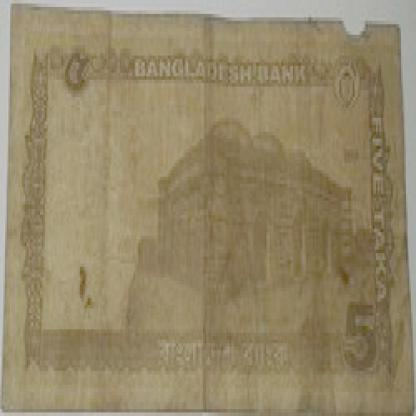Five Taka: (338, 288, 379, 392), (53, 31, 95, 111)
